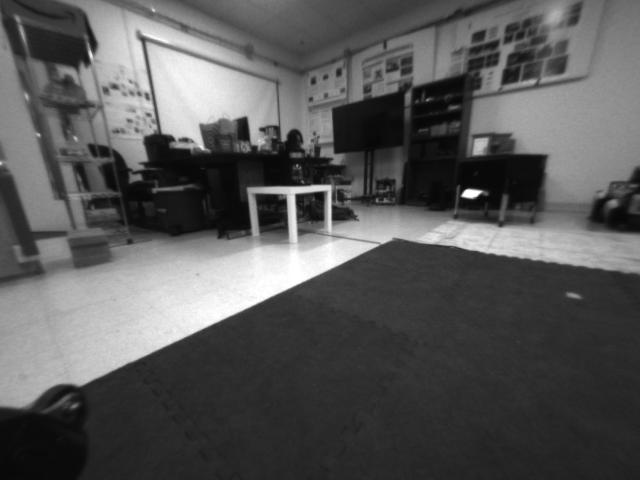coffee_pot: (277, 147, 313, 187)
